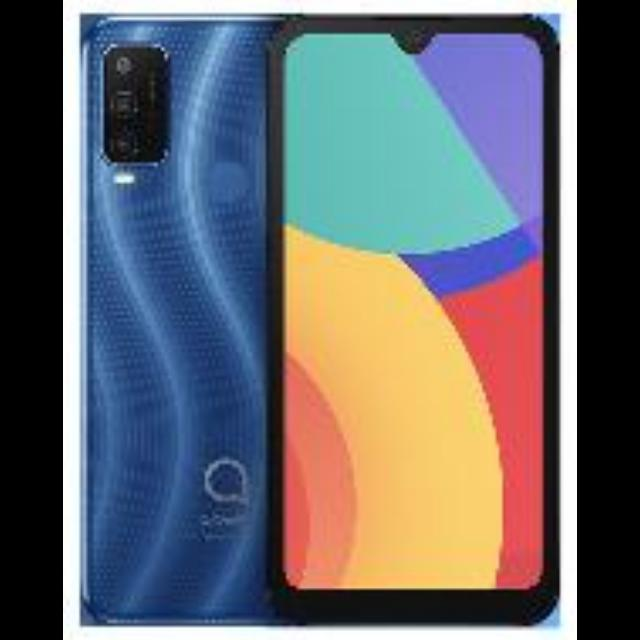PhoneUse: (277, 19, 561, 625), (82, 10, 268, 626)
